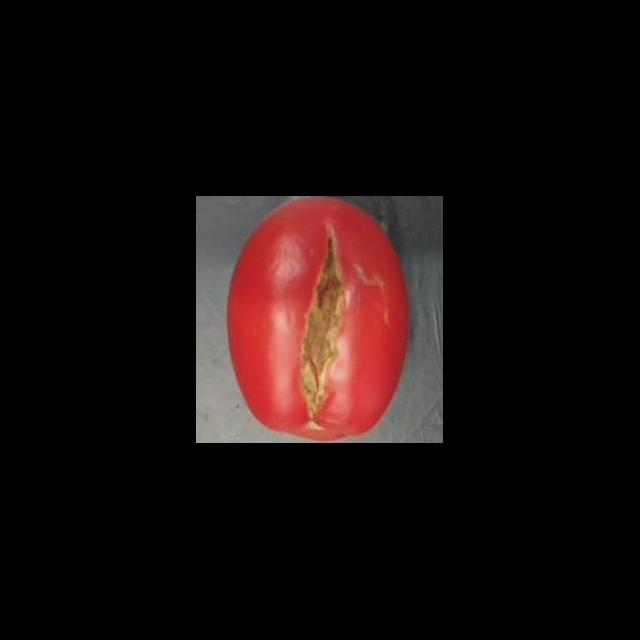tomato: (222, 196, 418, 444)
